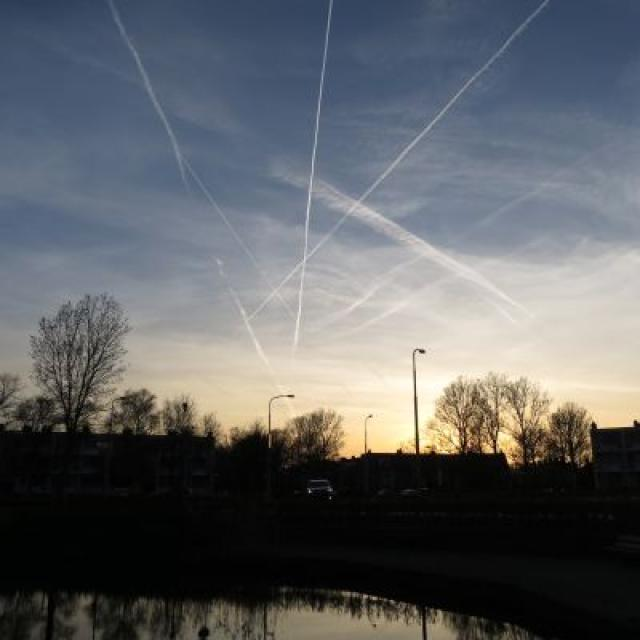Ct: (1, 10, 640, 315)
